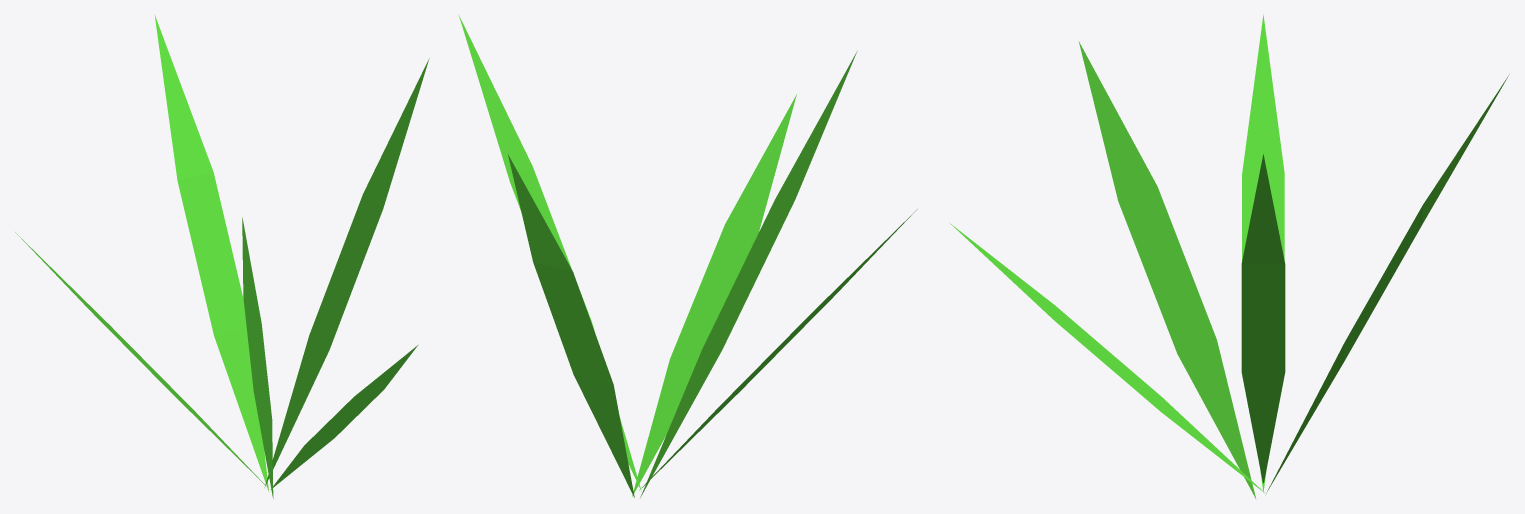
The model's file is grass1.fbx.
3 renders of one model, left to right at view 1: azimuth 30°, elevation 25°; view 2: azimuth 150°, elevation 25°; view 3: azimuth 270°, elevation 25°, orthographic. The views are drawn at different scales.
Parts seen in each view (by area): view 1: grass01; view 2: grass01; view 3: grass01.
Boxes of the visible parts, x1,y1,x2,y2 form: grass01: (15,15,429,498); grass01: (458,14,917,497); grass01: (950,14,1509,498).
Size of the model in its own units: 47.22 by 43.58 by 51.67.
